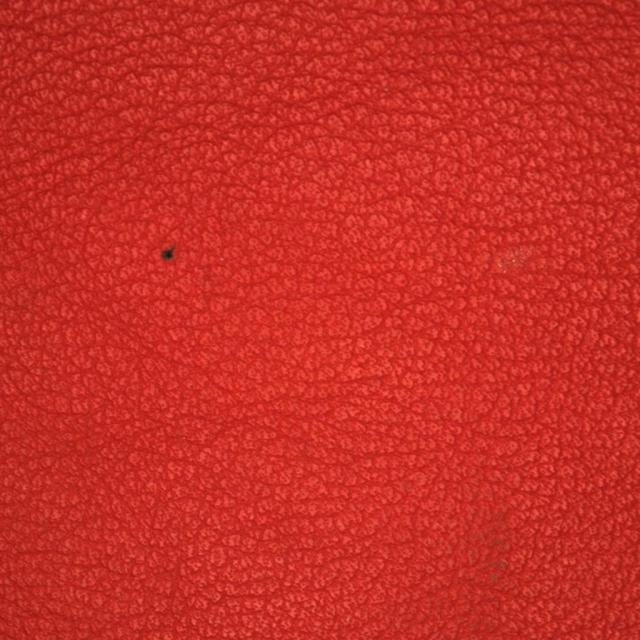Hole: (116, 166, 218, 338)
